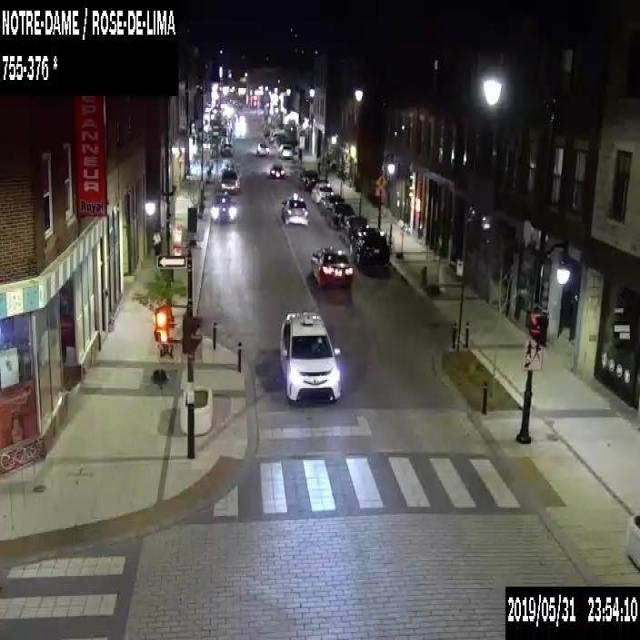vehicle: (278, 311, 340, 404), (349, 225, 389, 269), (310, 247, 352, 286), (280, 191, 308, 224), (339, 216, 366, 243), (209, 194, 236, 220), (326, 203, 352, 228), (320, 194, 344, 215), (311, 182, 333, 202), (220, 168, 238, 192), (300, 169, 318, 189), (269, 162, 285, 177), (277, 144, 292, 158), (220, 141, 232, 156), (256, 142, 268, 154)
